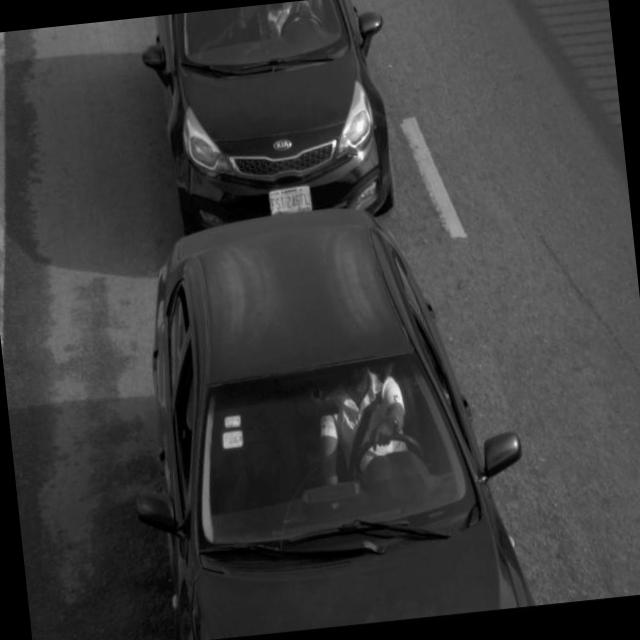person_with_seatbelt: (310, 372, 424, 501)
